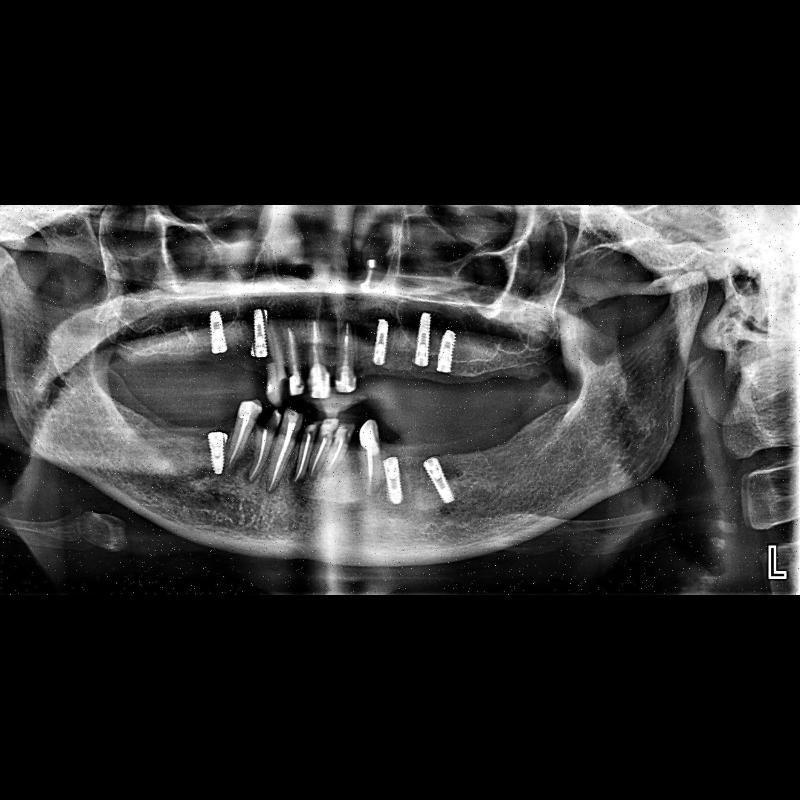osstem: (408, 309, 440, 371), (423, 455, 459, 507), (246, 304, 274, 366), (202, 426, 231, 480), (204, 307, 232, 359), (384, 459, 408, 511), (369, 321, 393, 369), (438, 330, 462, 374)
